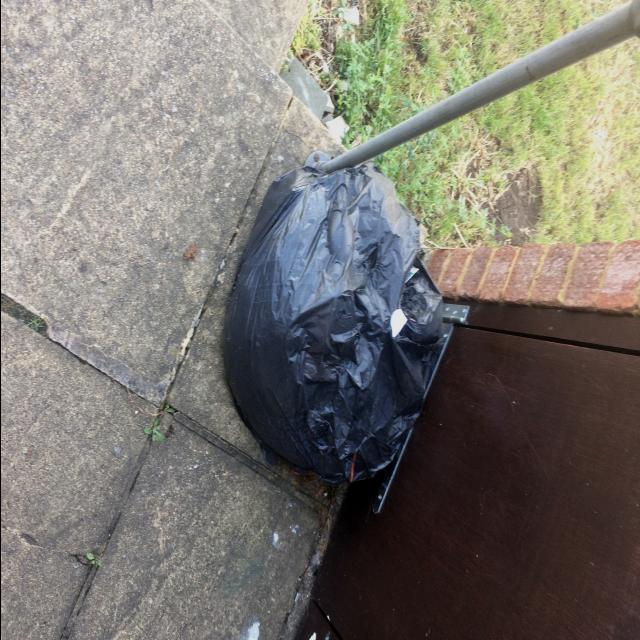Garbage bag: (222, 165, 442, 484)
